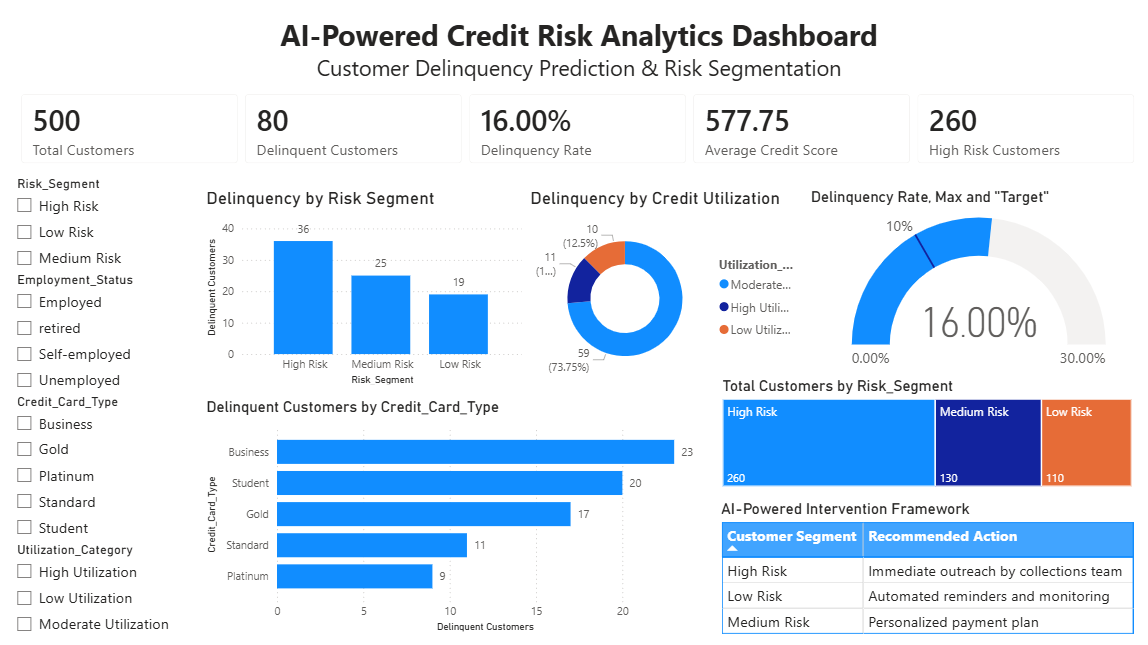

This screenshot's page, from the dashboard's own definition file:
{"tool":"powerbi","page":{"name":"Page 1","canvas":[1280,720],"ordinal":0},"visuals":[{"type":"cardVisual","fields":{"Data":["Cleaned_Data.Total Customers","Cleaned_Data.Delinquent Customers","Cleaned_Data.Delinquency Rate","Cleaned_Data.Average Credit Score","Cleaned_Data.High Risk Customers"]},"box":[9.1,87.8,1271.5,111.6],"z":0},{"type":"textbox","box":[9.7,11.3,1271.1,93.9],"z":1000},{"type":"slicer","fields":{"Values":["Cleaned_Data.Risk_Segment"]},"box":[9.1,192.1,201.2,124.4],"z":2000},{"type":"slicer","fields":{"Values":["Cleaned_Data.Employment_Status"]},"box":[9.1,298.2,201.2,146.4],"z":3000},{"type":"slicer","fields":{"Values":["Cleaned_Data.Credit_Card_Type"]},"box":[9.1,433.6,201.2,181.1],"z":4000},{"type":"slicer","fields":{"Values":["Cleaned_Data.Utilization_Category"]},"box":[9.1,598.2,201.2,122.6],"z":5000},{"type":"clusteredColumnChart","title":"Delinquency by Risk Segment","fields":{"Category":["Cleaned_Data.Risk_Segment"],"Y":["Cleaned_Data.Delinquent Customers"]},"box":[226.9,210.4,360.4,223.2],"z":6000},{"type":"donutChart","title":"Delinquency by Credit Utilization","fields":{"Category":["Cleaned_Data.Utilization_Category"],"Y":["Cleaned_Data.Delinquent Customers"]},"box":[587.3,210.4,309.2,223.2],"z":7000},{"type":"clusteredBarChart","fields":{"Y":["Cleaned_Data.Delinquent Customers"],"Category":["Cleaned_Data.Credit_Card_Type"]},"box":[226,444,558,264],"z":8000},{"type":"treemap","fields":{"Group":["Cleaned_Data.Risk_Segment"],"Values":["Cleaned_Data.Total Customers"]},"box":[800,420,464,126],"z":9000},{"type":"tableEx","title":"AI-Powered Intervention Framework","fields":{"Values":["Table 1.Column1","Table 1.Column2"]},"box":[798,556,480,160],"z":10000},{"type":"gauge","fields":{"Y":["Cleaned_Data.Delinquency Rate"],"MaxValue":["Cleaned_Data.Max"],"TargetValue":["Cleaned_Data.\"Target\""]},"box":[898,210,382,210],"z":10001}]}

Visuals, with their boxes in screenshot pixels (x1, y1, x2, y2), scaled from the page's 1280x720 canvas onto the 1148x645 screenshot:
cardVisual - Cleaned_Data.Total Customers x Cleaned_Data.Delinquent Customers: <region>8, 79, 1147, 179</region>
textbox: <region>9, 10, 1147, 94</region>
slicer - Cleaned_Data.Risk_Segment: <region>8, 172, 189, 284</region>
slicer - Cleaned_Data.Employment_Status: <region>8, 267, 189, 398</region>
slicer - Cleaned_Data.Credit_Card_Type: <region>8, 388, 189, 551</region>
slicer - Cleaned_Data.Utilization_Category: <region>8, 536, 189, 644</region>
"Delinquency by Risk Segment" clusteredColumnChart: <region>204, 188, 527, 388</region>
"Delinquency by Credit Utilization" donutChart: <region>527, 188, 804, 388</region>
clusteredBarChart - Cleaned_Data.Delinquent Customers x Cleaned_Data.Credit_Card_Type: <region>203, 398, 703, 634</region>
treemap - Cleaned_Data.Risk_Segment x Cleaned_Data.Total Customers: <region>718, 376, 1134, 489</region>
"AI-Powered Intervention Framework" tableEx: <region>716, 498, 1146, 641</region>
gauge - Cleaned_Data.Delinquency Rate x Cleaned_Data.Max: <region>805, 188, 1147, 376</region>
